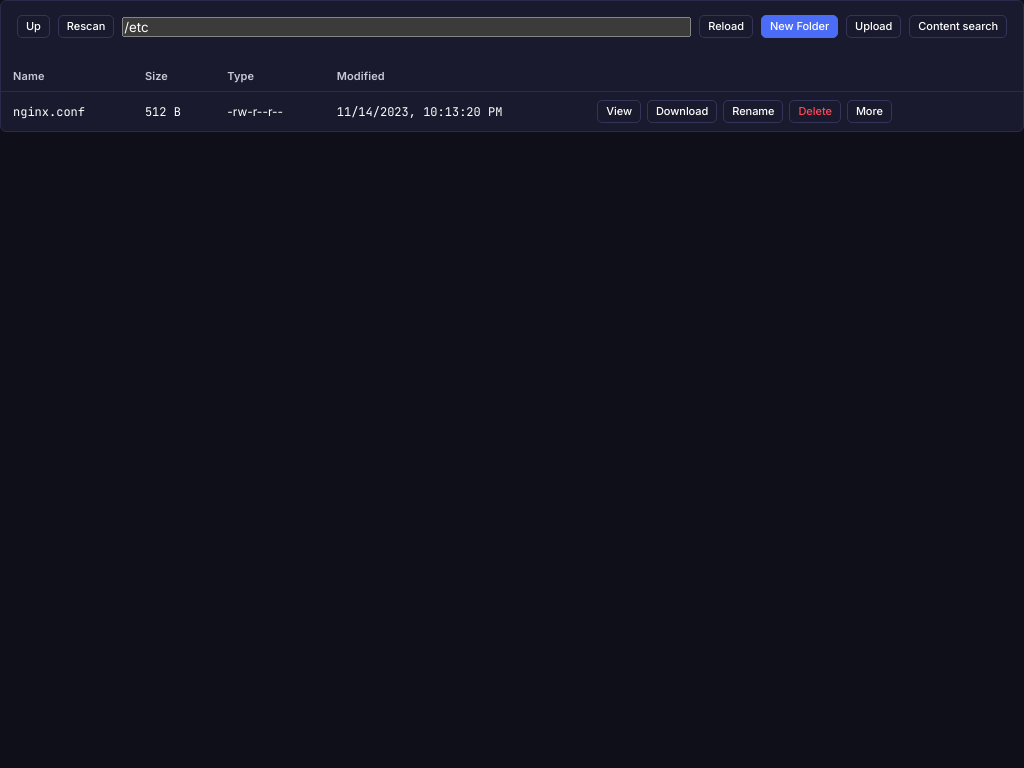
Test: FilesTab content search › says so when nothing matched, instead of showing an empty table
The width and height of the screenshot is (1024, 768).
Expected: the text "nginx.conf" is shown, [1,92,133,131]
Click the button "Content search" at (958,27), box [909,15,1007,38]
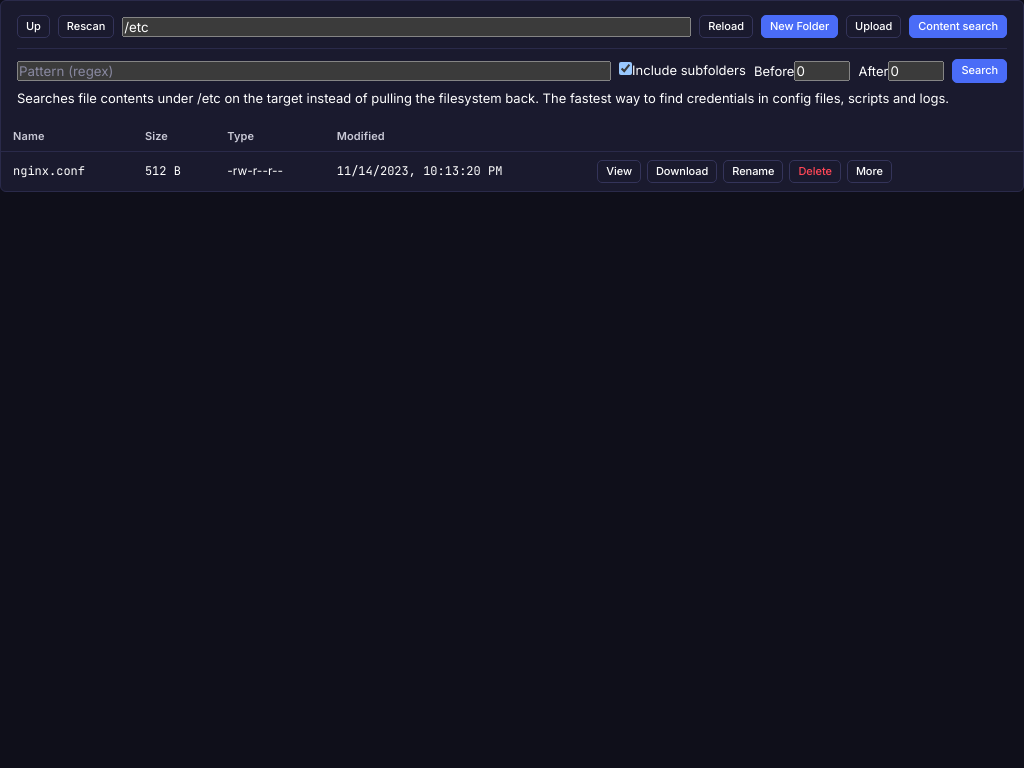
Type "nothinghere" into the field with placeholder "Pattern (regex)" at (314,71), box [17,61,611,81]
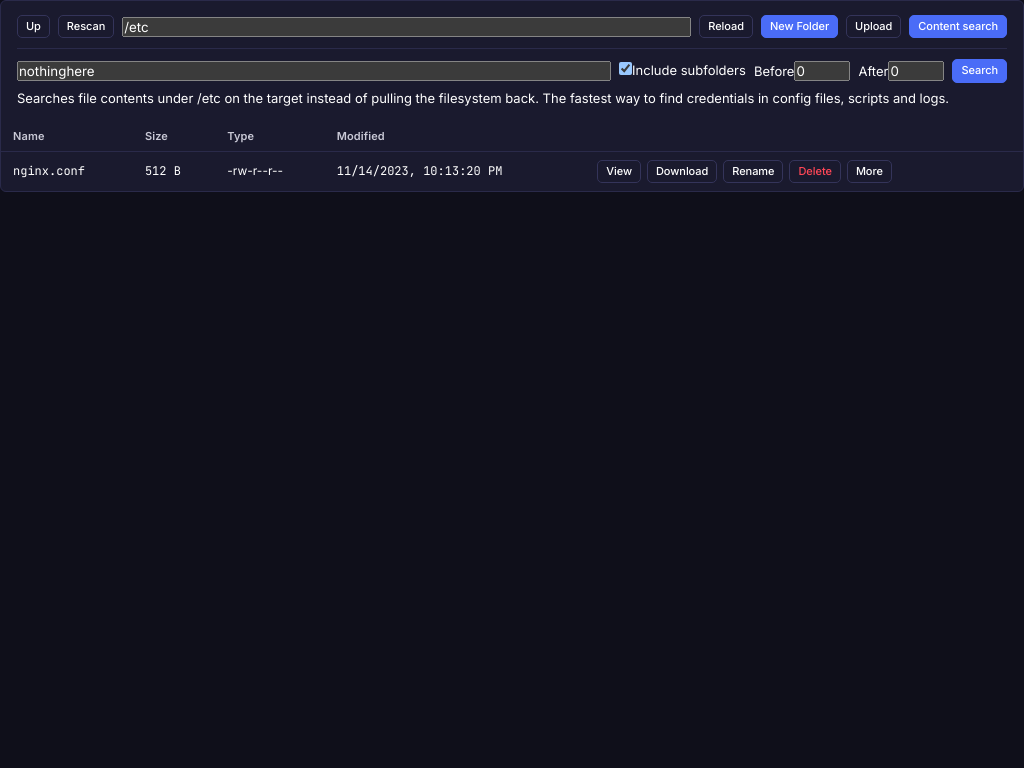
Click the button "Search" at (980,71), box [952,59,1007,83]
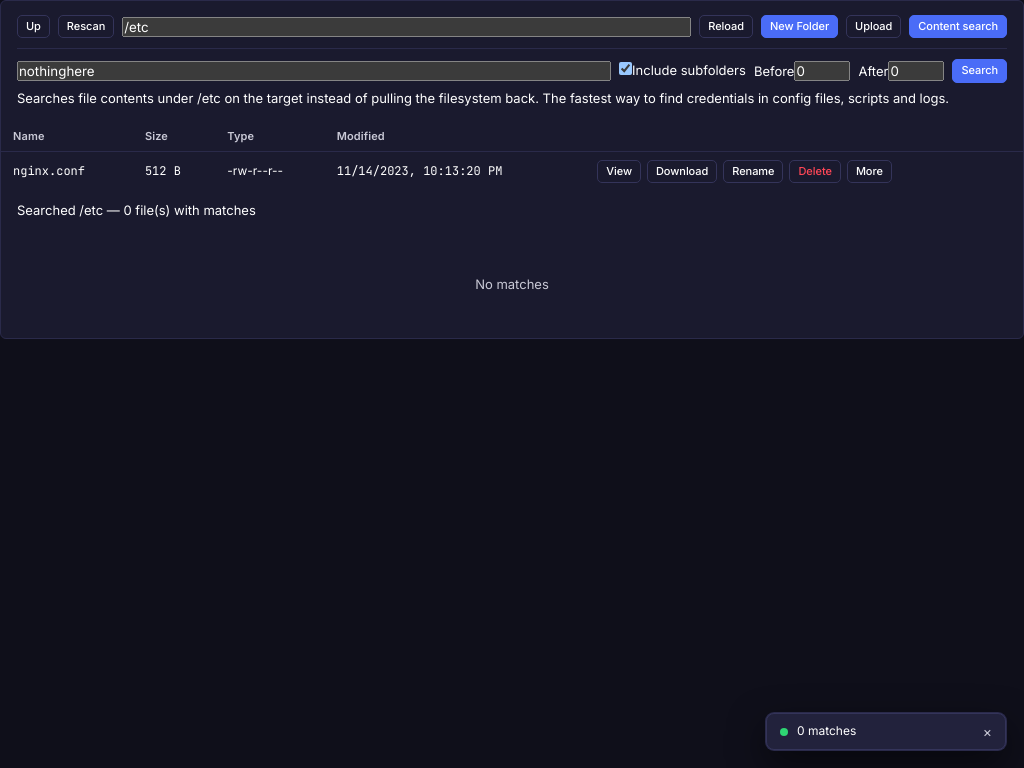
Now the text "No matches" is shown, box [475,276,549,292]
